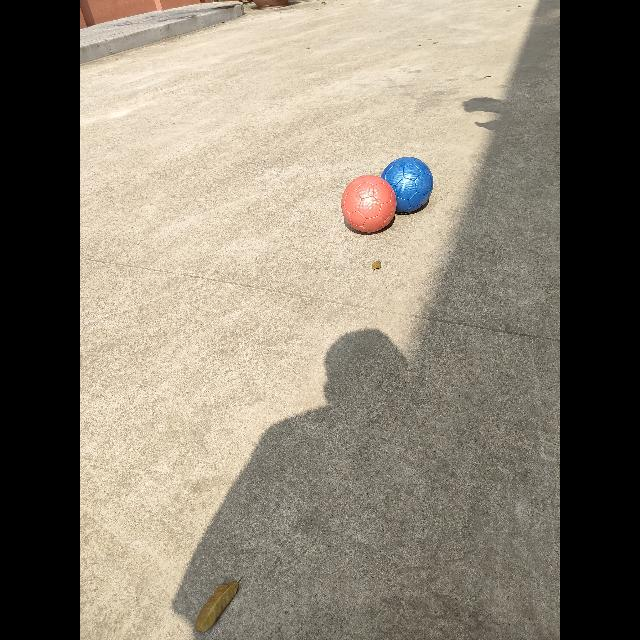B: (381, 156, 434, 214)
R: (341, 175, 396, 232)
